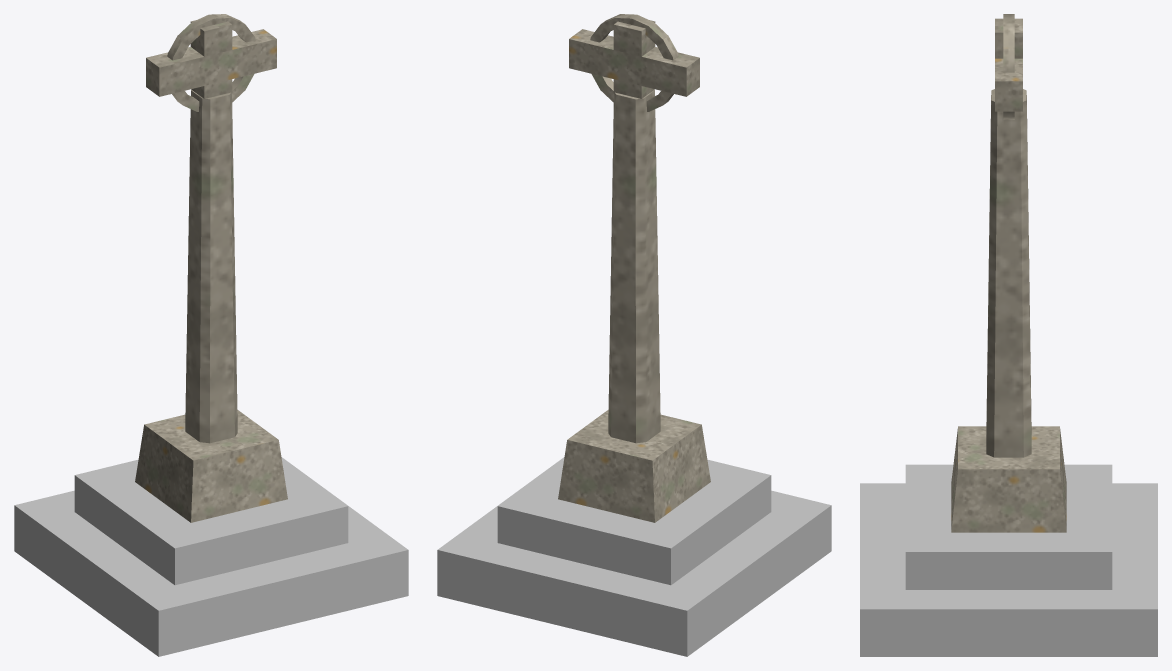
Rendered from SE_Churchyard_Cross.glb.
3 views of the same model, side by side, from view 1: azimuth 30°, elevation 25°; view 2: azimuth 150°, elevation 25°; view 3: azimuth 270°, elevation 25° (orthographic). The views are drawn at different scales.
Parts seen in each view (by area): view 1: SE_Churchyard_Cross; view 2: SE_Churchyard_Cross; view 3: SE_Churchyard_Cross.
Part boxes in pixels (x1,y1,x2,y2): SE_Churchyard_Cross: (14,14,408,656); SE_Churchyard_Cross: (437,14,831,656); SE_Churchyard_Cross: (860,14,1157,656).
Bounding box in the file's own units: 1.7 × 3.62 × 1.7.
